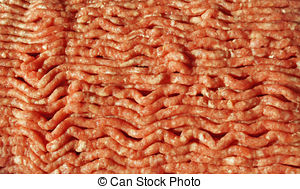ground_beef: (1, 1, 295, 170)
